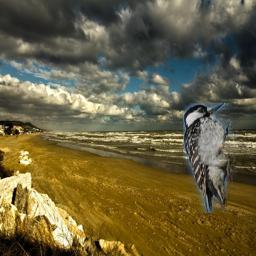Woodpecker: (183, 103, 243, 213)
